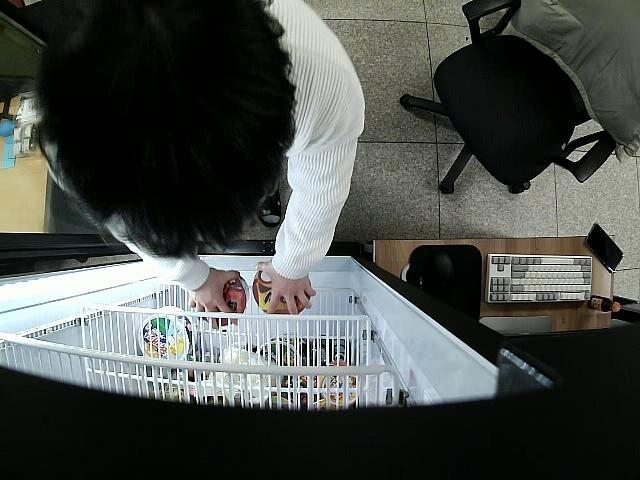05_nuguri_L: (252, 270, 312, 317), (198, 272, 248, 316)
